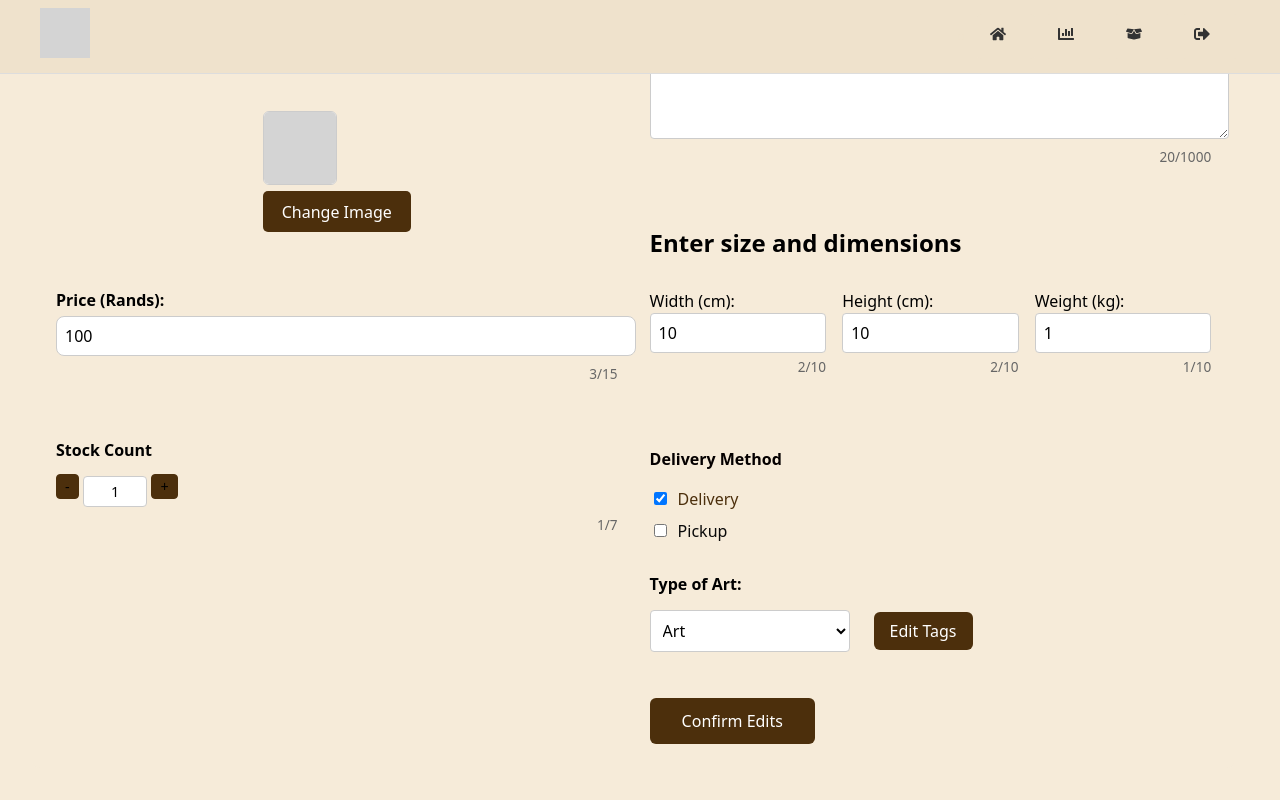
Test: EditProductPage Functional Tests › confirm tag closes pop-up
(page scrolled)
Click the button "Edit Tags" at {"x": 923, "y": 631}, box top-left (874, 612), bottom-right (972, 650)
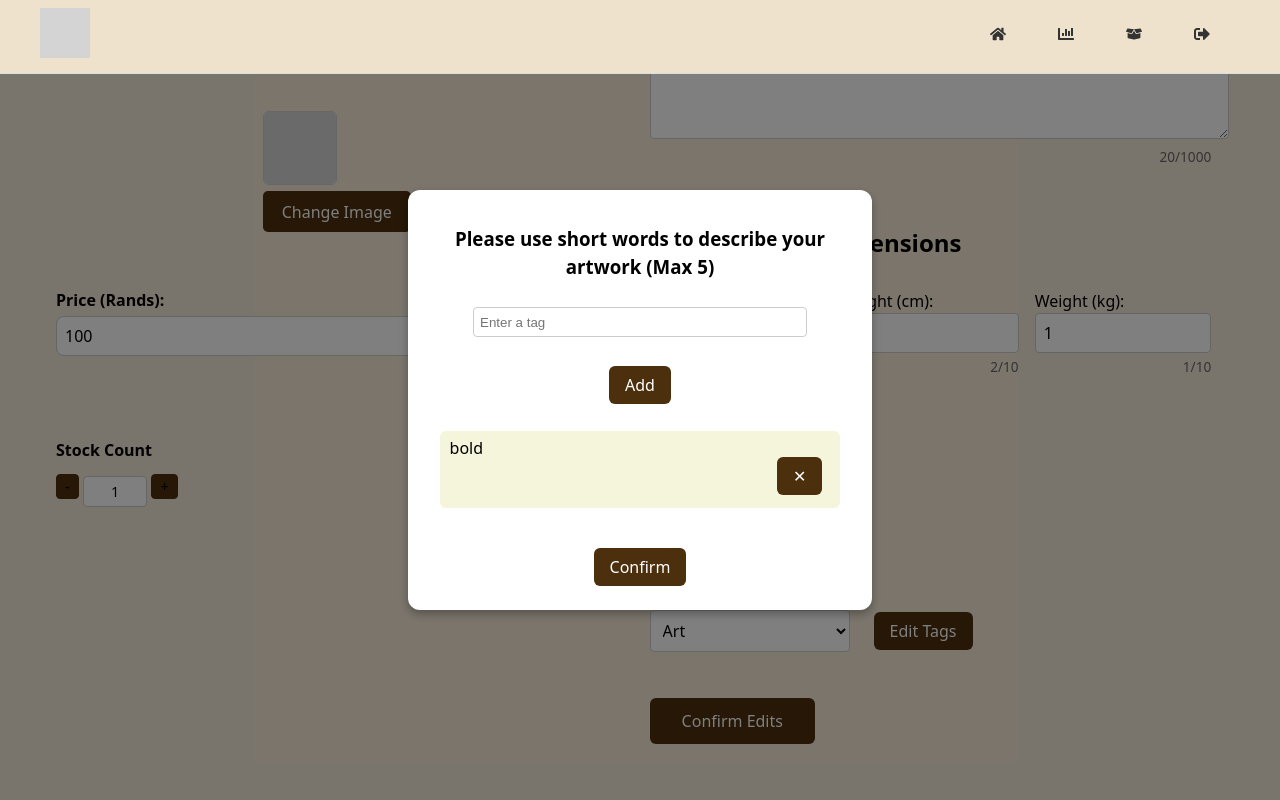
Click the button "Confirm" at {"x": 640, "y": 567}, box top-left (594, 548), bottom-right (686, 586)
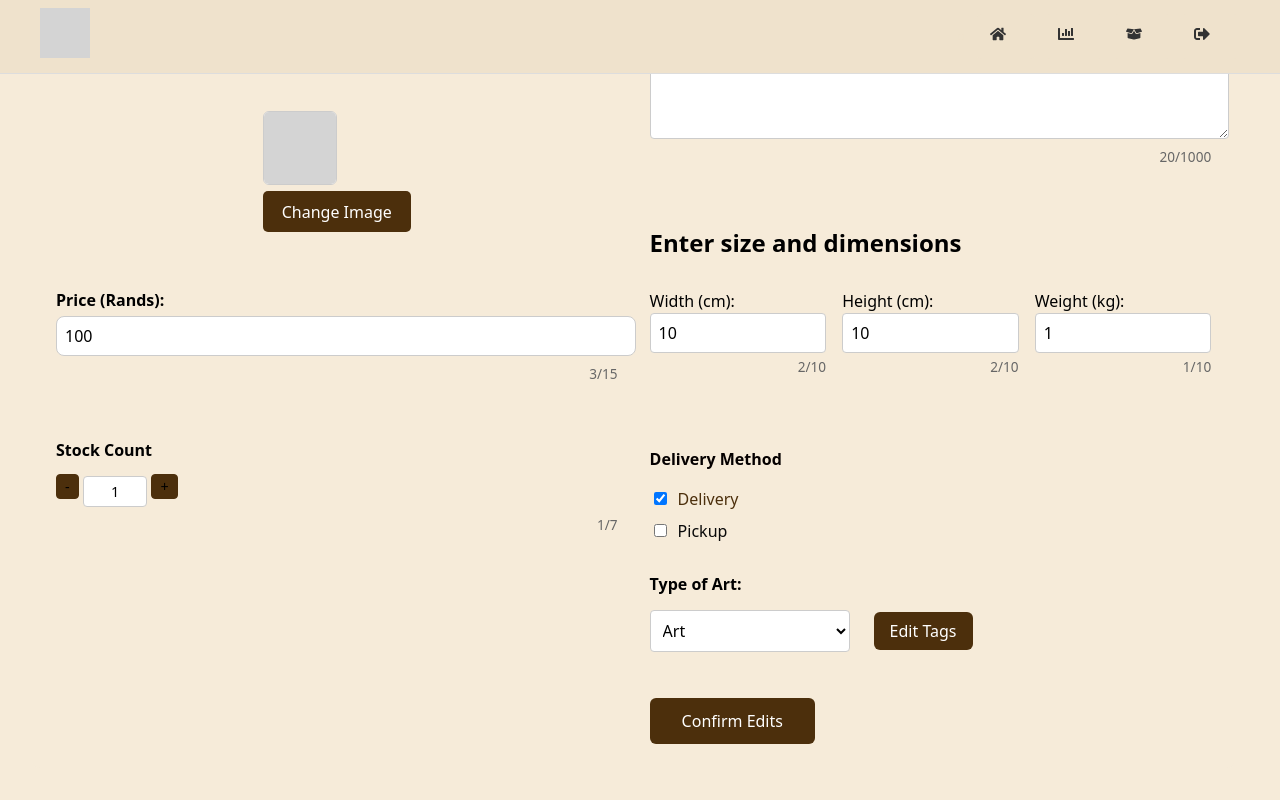
Now the dialog is gone
